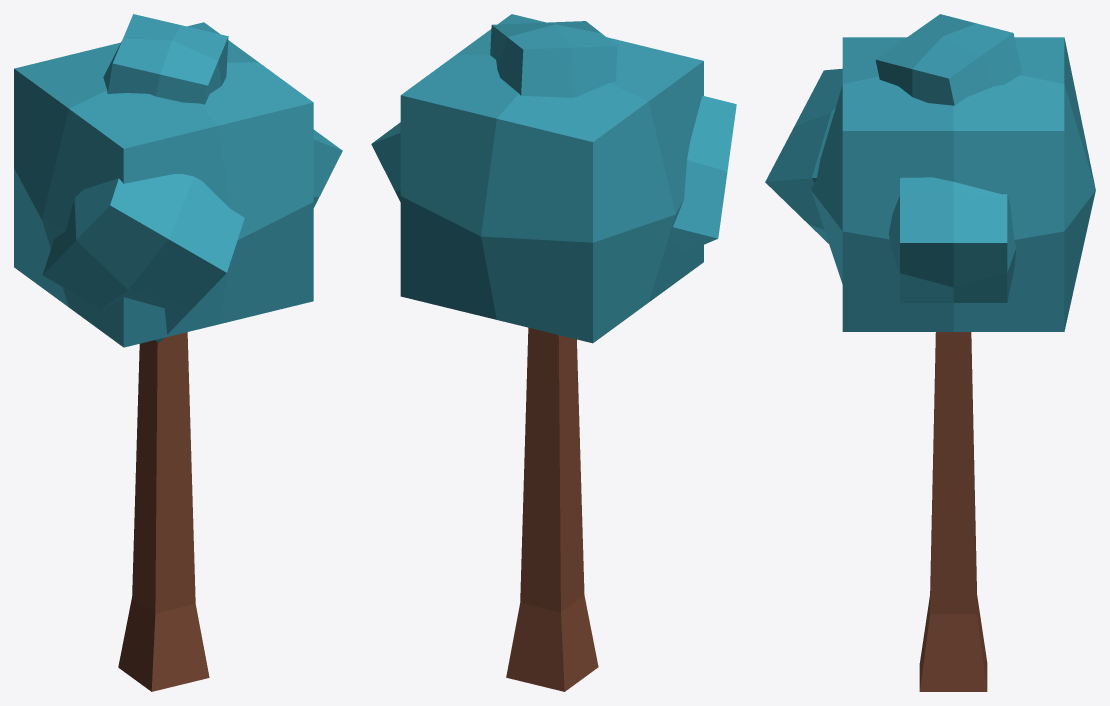
The model's file is Tree_43_summer_blue_vc.fbx.
3 renders of one model, left to right at view 1: azimuth 30°, elevation 25°; view 2: azimuth 150°, elevation 25°; view 3: azimuth 270°, elevation 25°, orthographic.
Parts seen in each view (by area): view 1: Tree_43_summer_blue_vc; view 2: Tree_43_summer_blue_vc; view 3: Tree_43_summer_blue_vc.
Boxes of the visible parts, box(x1,y1,x2,y2) form: Tree_43_summer_blue_vc: box(14, 14, 342, 691); Tree_43_summer_blue_vc: box(371, 14, 736, 691); Tree_43_summer_blue_vc: box(765, 14, 1095, 691).
Size of the model in its own units: 76.72 by 158 by 73.68.
